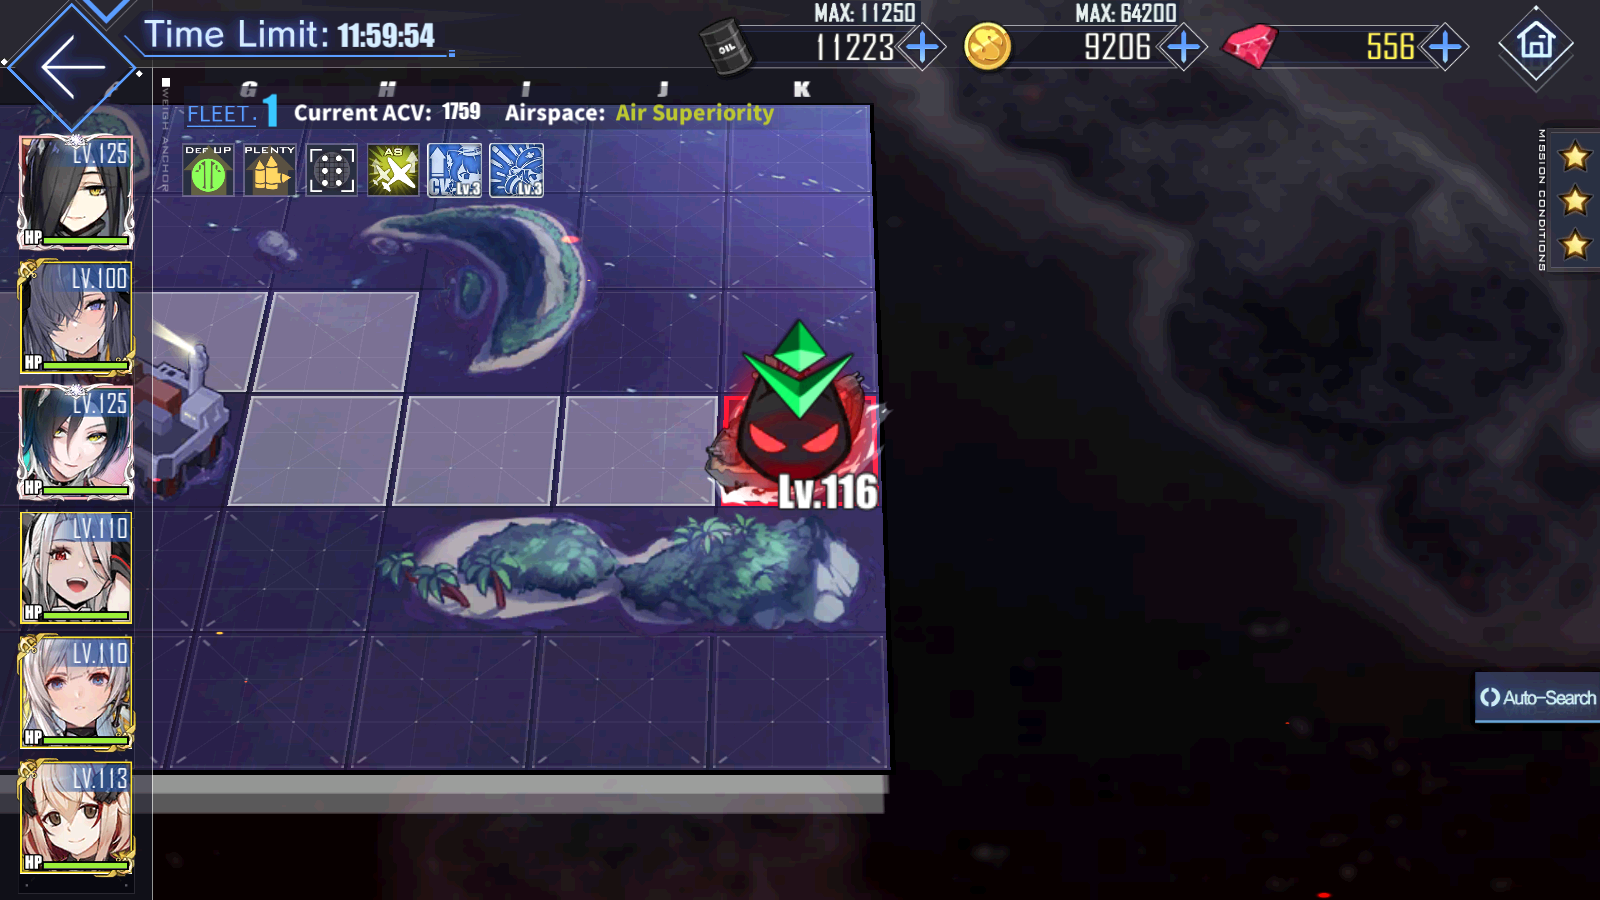boss: (705, 373, 880, 507)
